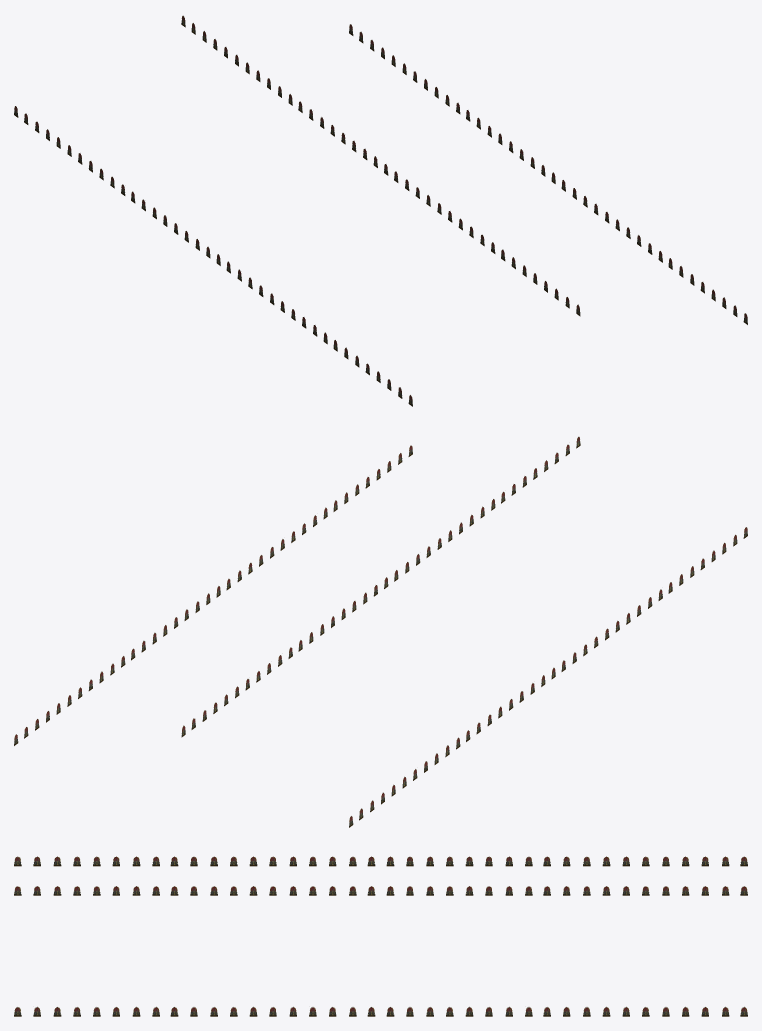
The model's file is parth_antefixes.dae.
3 renders of one model, top to bottom at view 1: azimuth 30°, elevation 25°; view 2: azimuth 150°, elevation 25°; view 3: azimuth 270°, elevation 25°, orthographic. The views are drawn at different scales.
Parts seen in each view (by area): view 1: Plane45; view 2: Plane45; view 3: Plane45.
Boxes of the visible parts, x1,y1,x2,y2 form: Plane45: (14,15,747,406); Plane45: (14,436,747,827); Plane45: (14,856,747,1016).
Bounding box in the file's own units: 24.22 × 49.93 × 4.15.
